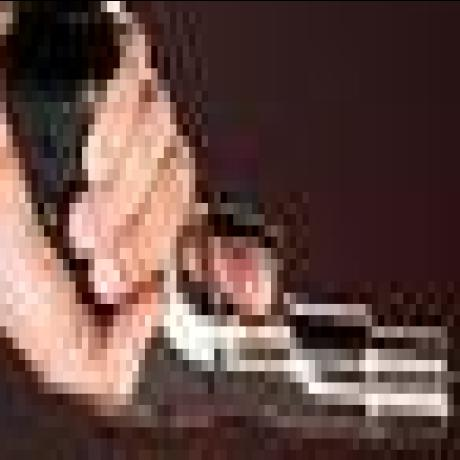1: (0, 0, 284, 415)
weapon: (5, 6, 459, 458)
